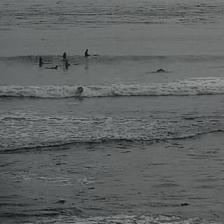surfer: (46, 65, 58, 70), (76, 86, 84, 93), (84, 49, 90, 57), (38, 56, 43, 65), (64, 60, 70, 67), (156, 68, 165, 72), (62, 52, 66, 58)
